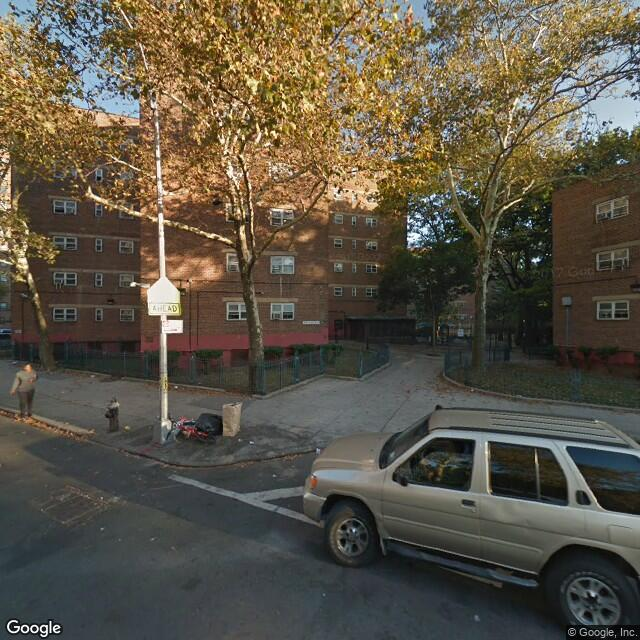litter: (470, 613, 481, 623), (122, 423, 133, 431), (89, 371, 96, 381), (270, 471, 279, 478), (172, 383, 180, 388)
